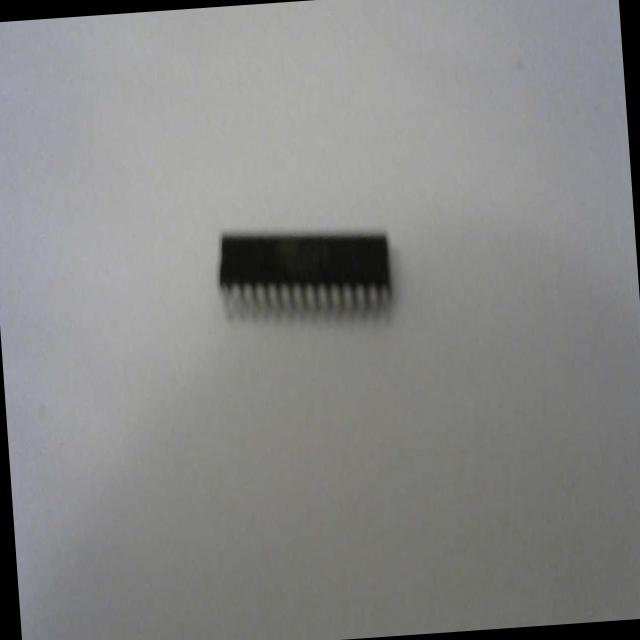atmega: (212, 216, 396, 333)
